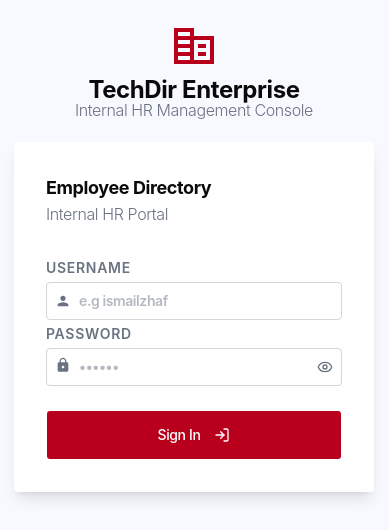
Scenario: LoginPage › Menampilkan error ketika username kosong
This screenshot has width=389, height=530.
In the password field labelled "PASSWORD": (194, 367) [79,357,309,377], type "123456"
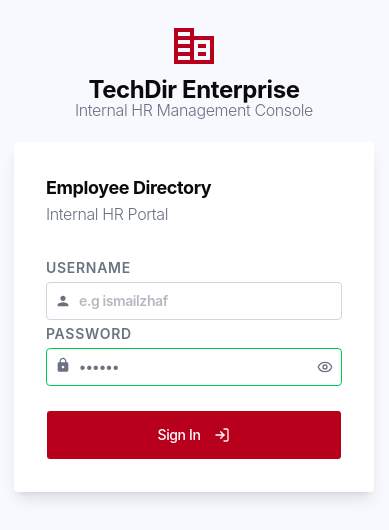
Click the button "Sign In": (194, 435) [46,410,342,460]
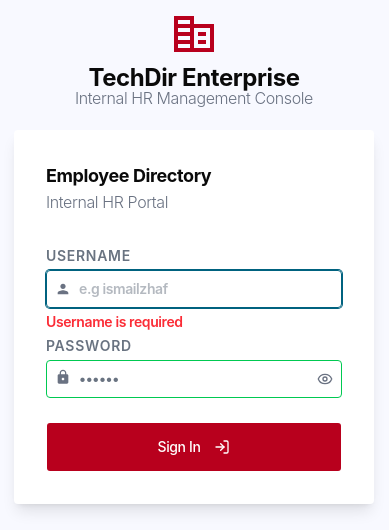
Now the text "Username is required" is shown, box [46,313,183,330]
